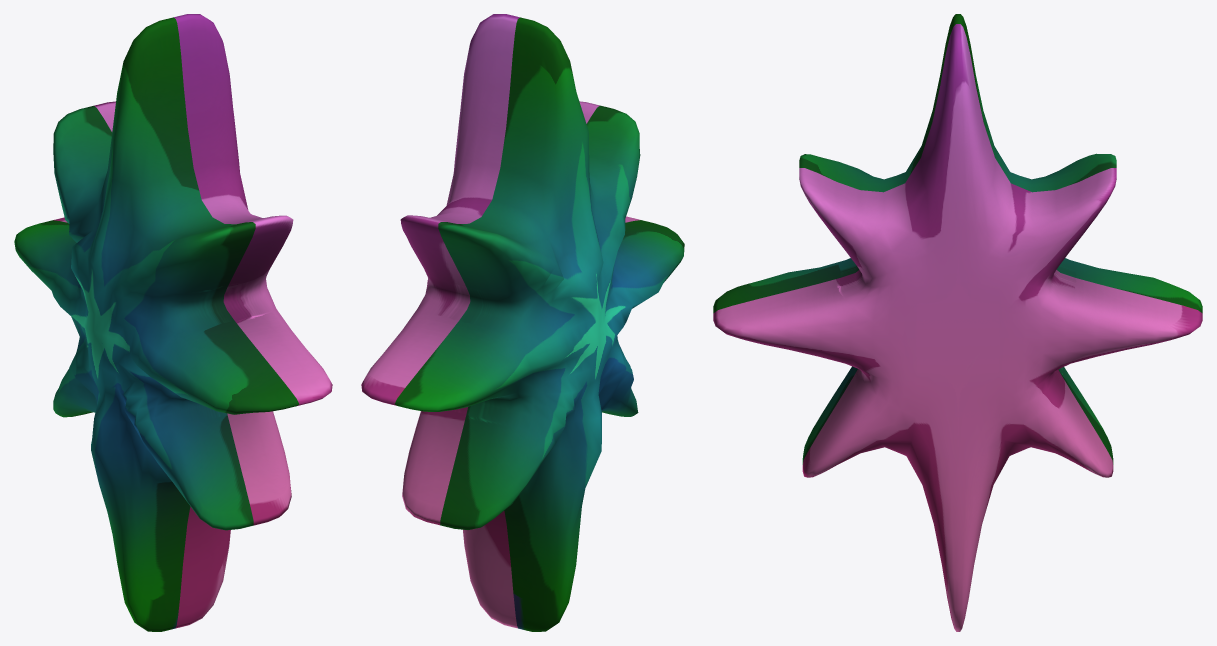
Rendered from star_bigBang_high_done1.fbx.
3 views of the same model, side by side, from view 1: azimuth 30°, elevation 25°; view 2: azimuth 150°, elevation 25°; view 3: azimuth 270°, elevation 25° (orthographic).
Parts seen in each view (by area): view 1: pCube3; view 2: pCube3; view 3: pCube3.
Part boxes in pixels (x1,y1,x2,y2): pCube3: (14,14,332,631); pCube3: (361,14,684,631); pCube3: (713,14,1202,631).
Size of the model in its own units: 2.5 by 10.41 by 7.72.
